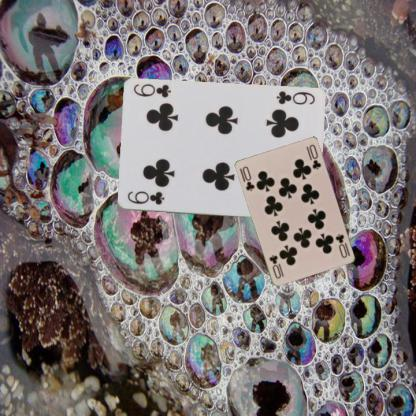10c: (237, 164, 256, 192), (333, 231, 349, 260)
6c: (274, 88, 316, 106), (124, 188, 165, 206)
